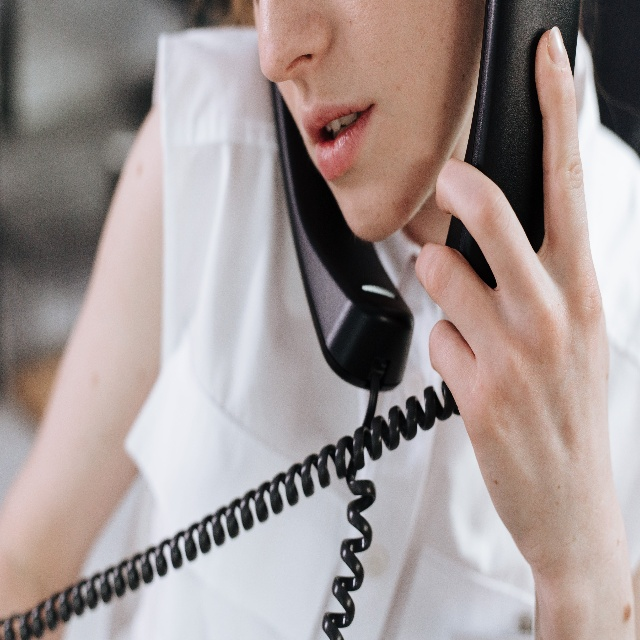Sin_guantes: (409, 24, 627, 559)
